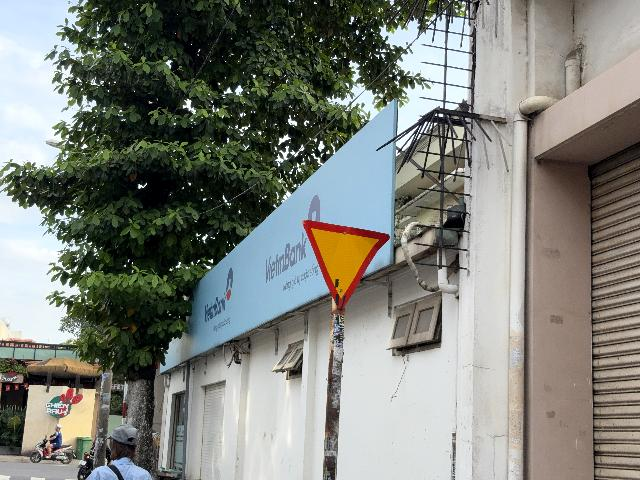giao-nhau-voi-duong-uu-tien: (302, 219, 390, 311)
